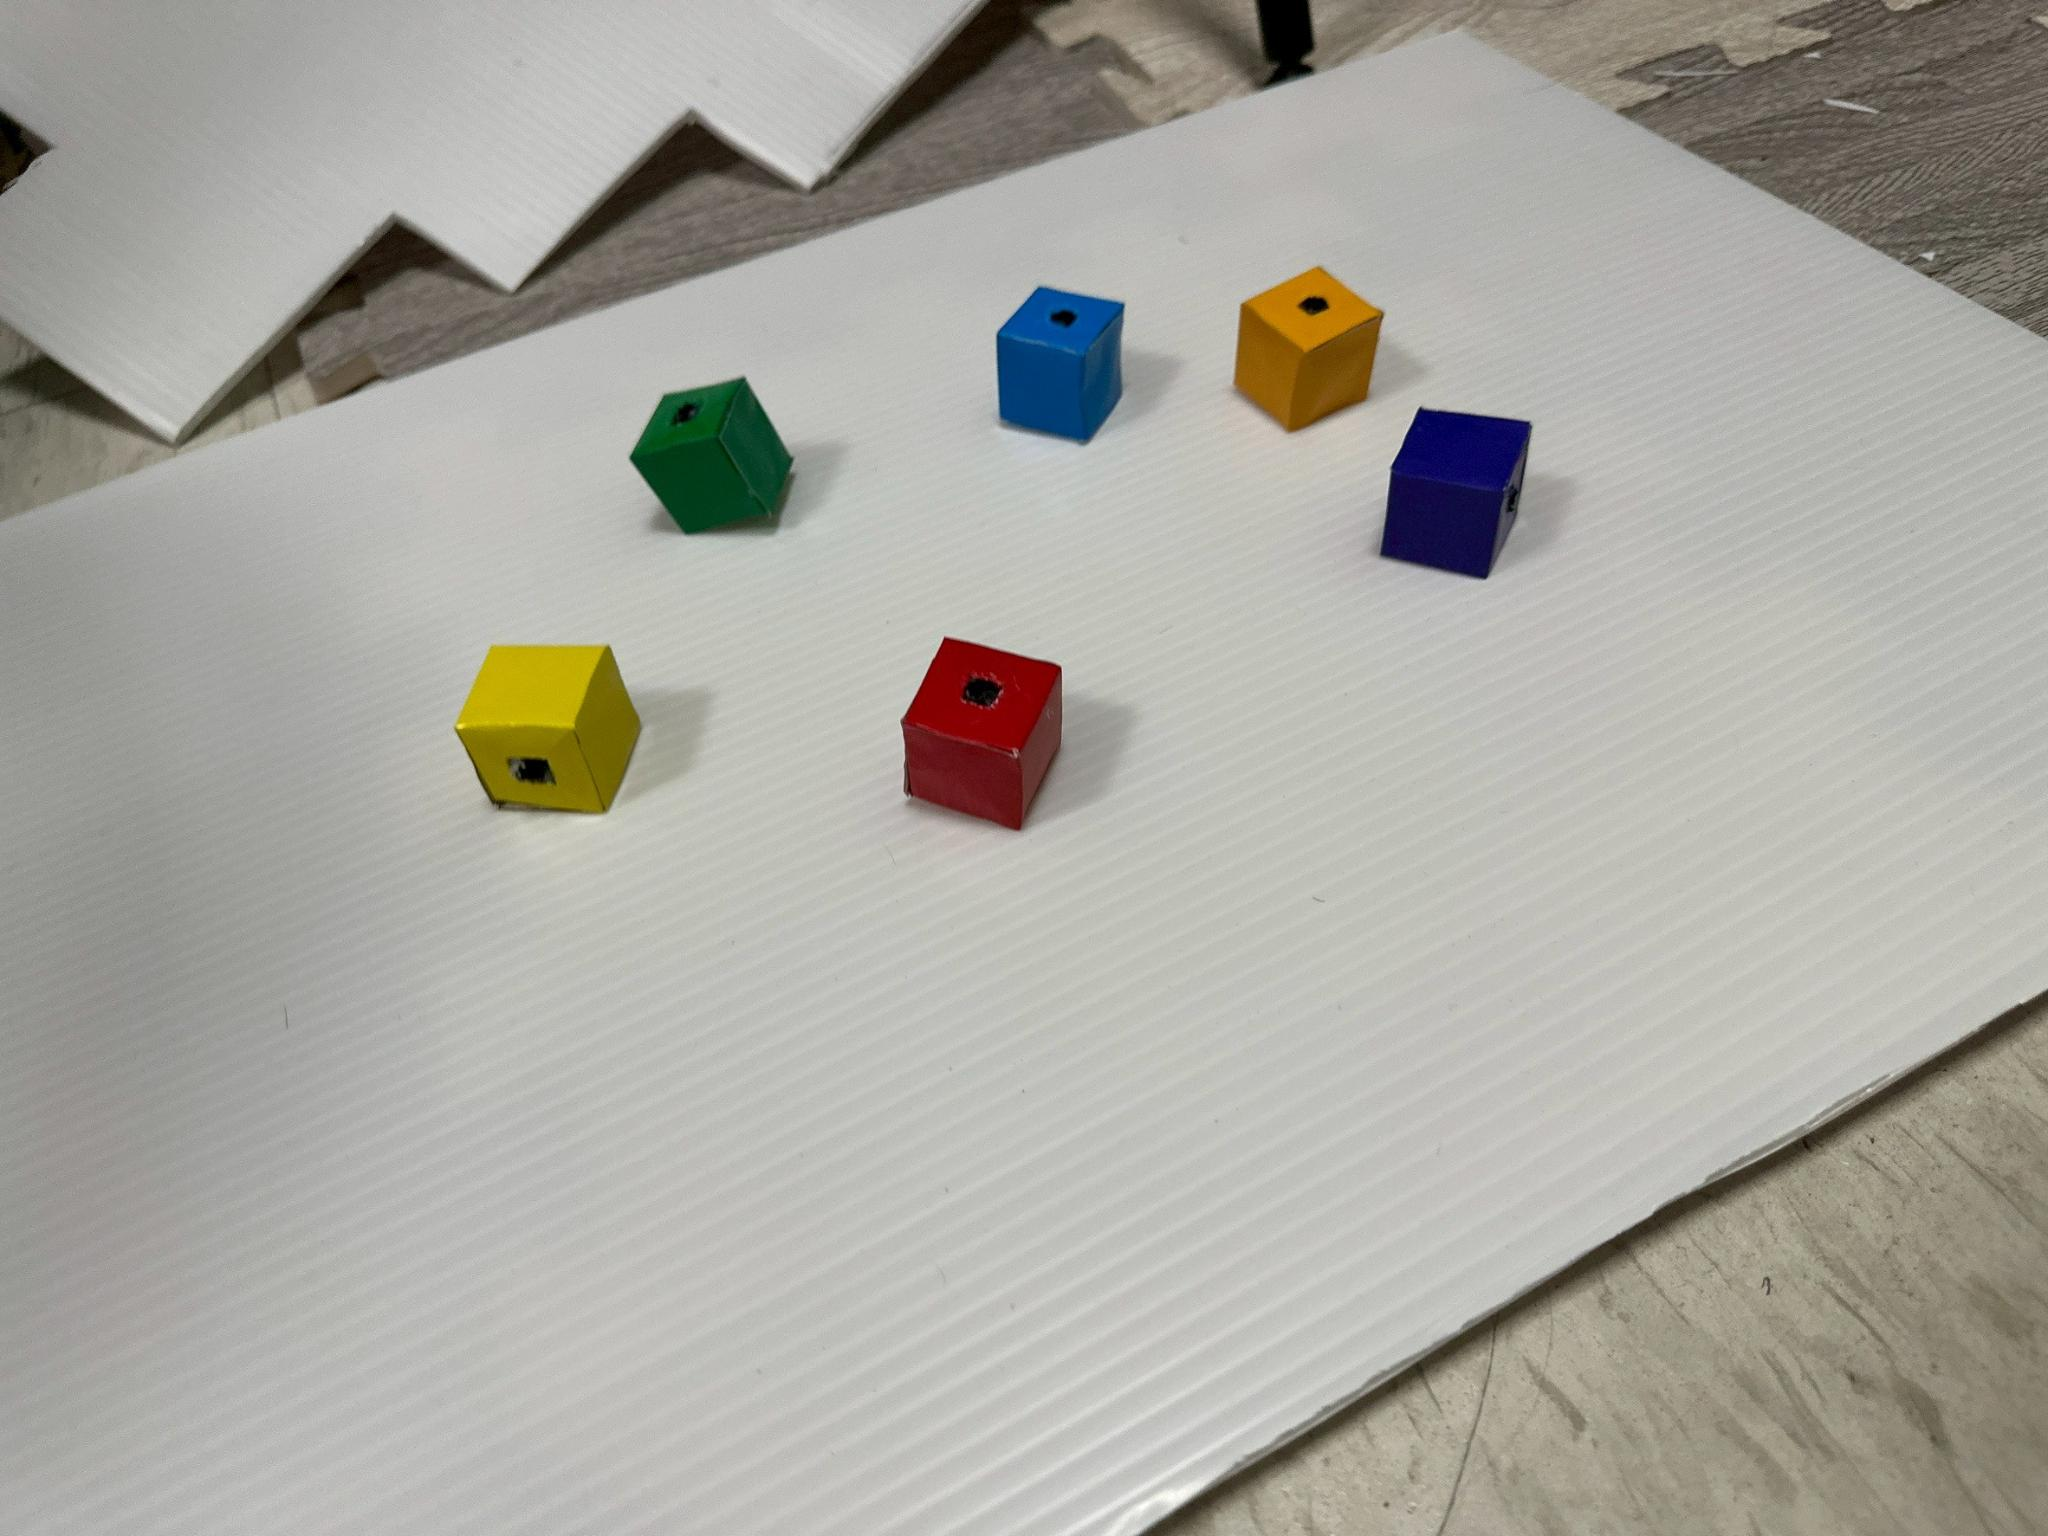base: (456, 645, 639, 813), (903, 637, 1061, 829), (1382, 408, 1529, 578), (632, 378, 792, 531), (1235, 266, 1382, 431), (997, 287, 1124, 440)
